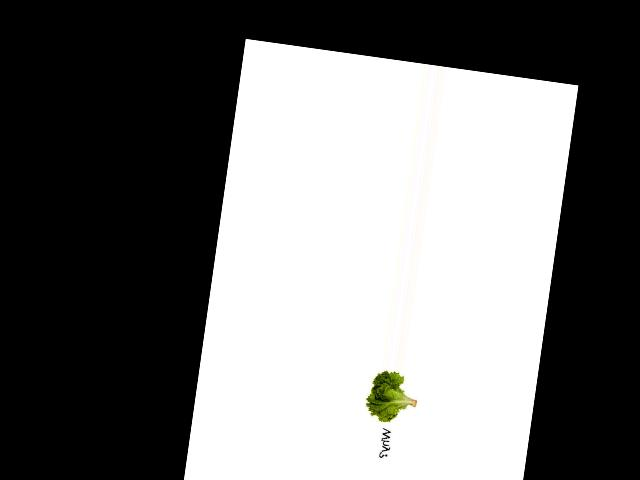lettuce: (362, 367, 421, 431)
